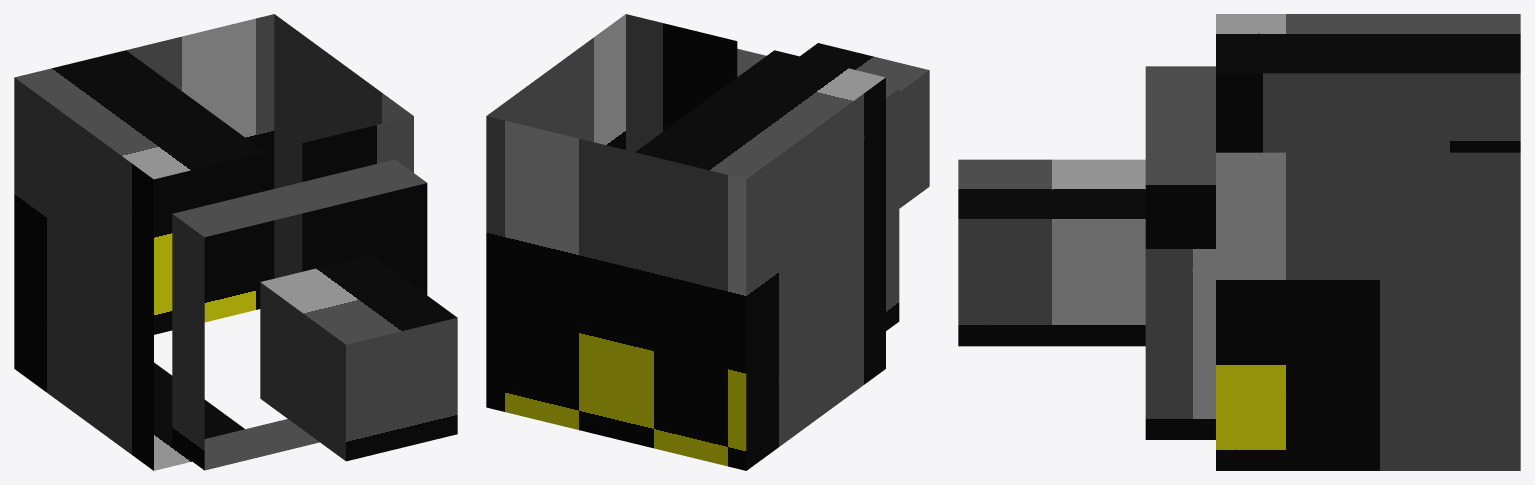
Rendered from extruder.obj.
The picture shows the model from 3 angles, left to right: view 1: azimuth 30°, elevation 25°; view 2: azimuth 150°, elevation 25°; view 3: azimuth 270°, elevation 25°; orthographic projection. The views are drawn at different scales.
Parts seen in each view (by area): view 1: Base, Drill; view 2: Base, Drill; view 3: Base, Drill.
Boxes of the visible parts, x1,y1,x2,y2 form: Base: [14, 14, 427, 470]; Drill: [260, 255, 457, 461]; Base: [486, 14, 899, 470]; Drill: [800, 43, 929, 208]; Base: [1145, 14, 1520, 470]; Drill: [958, 159, 1145, 346].
Bounding box in the file's own units: 0.875 × 0.9375 × 1.5.
